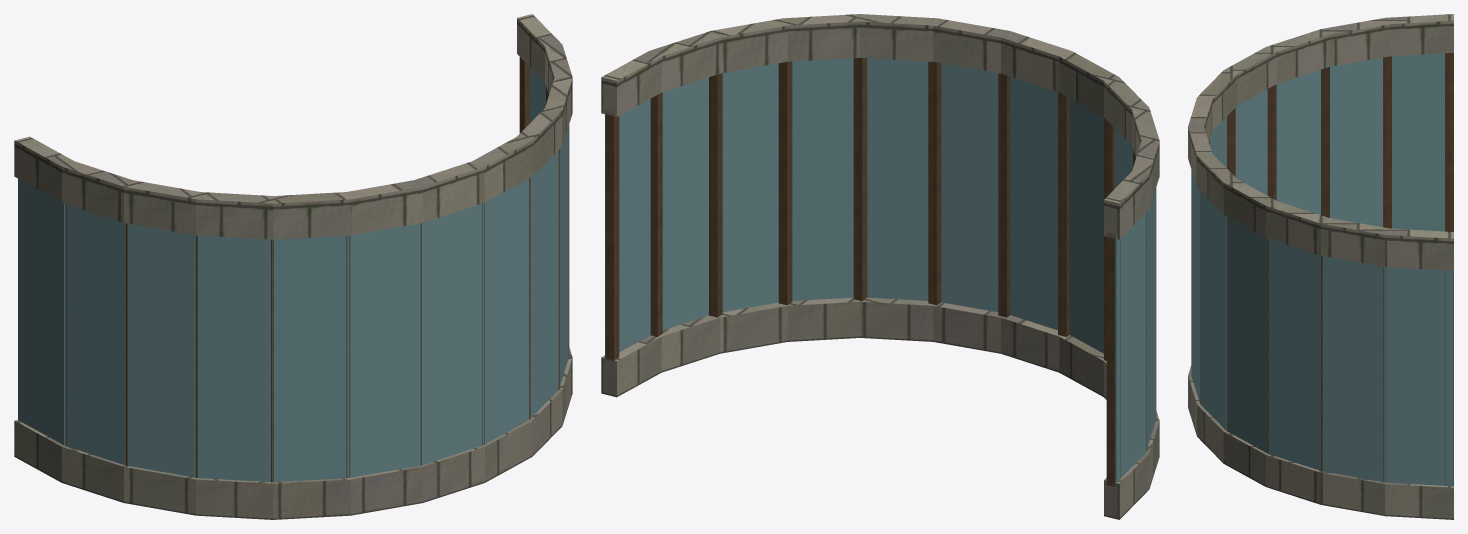
The model's file is Furn_Bay_Round.fbx.
3 renders of one model, left to right at view 1: azimuth 30°, elevation 25°; view 2: azimuth 150°, elevation 25°; view 3: azimuth 270°, elevation 25°, orthographic. The views are drawn at different scales.
Visible parts, largest first — view 1: Furn_Bay_Round_Mesh; view 2: Furn_Bay_Round_Mesh; view 3: Furn_Bay_Round_Mesh.
Boxes of the visible parts, left/top/right/bottom form: Furn_Bay_Round_Mesh: left=14, top=14, right=572, bottom=519; Furn_Bay_Round_Mesh: left=601, top=14, right=1159, bottom=519; Furn_Bay_Round_Mesh: left=1188, top=14, right=1453, bottom=519.
Size of the model in its own units: 6 by 3.5 by 3.
